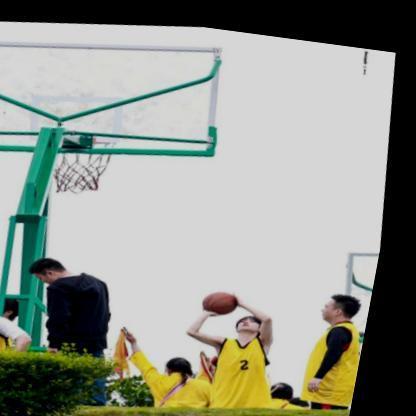basketball: (210, 280, 249, 309)
